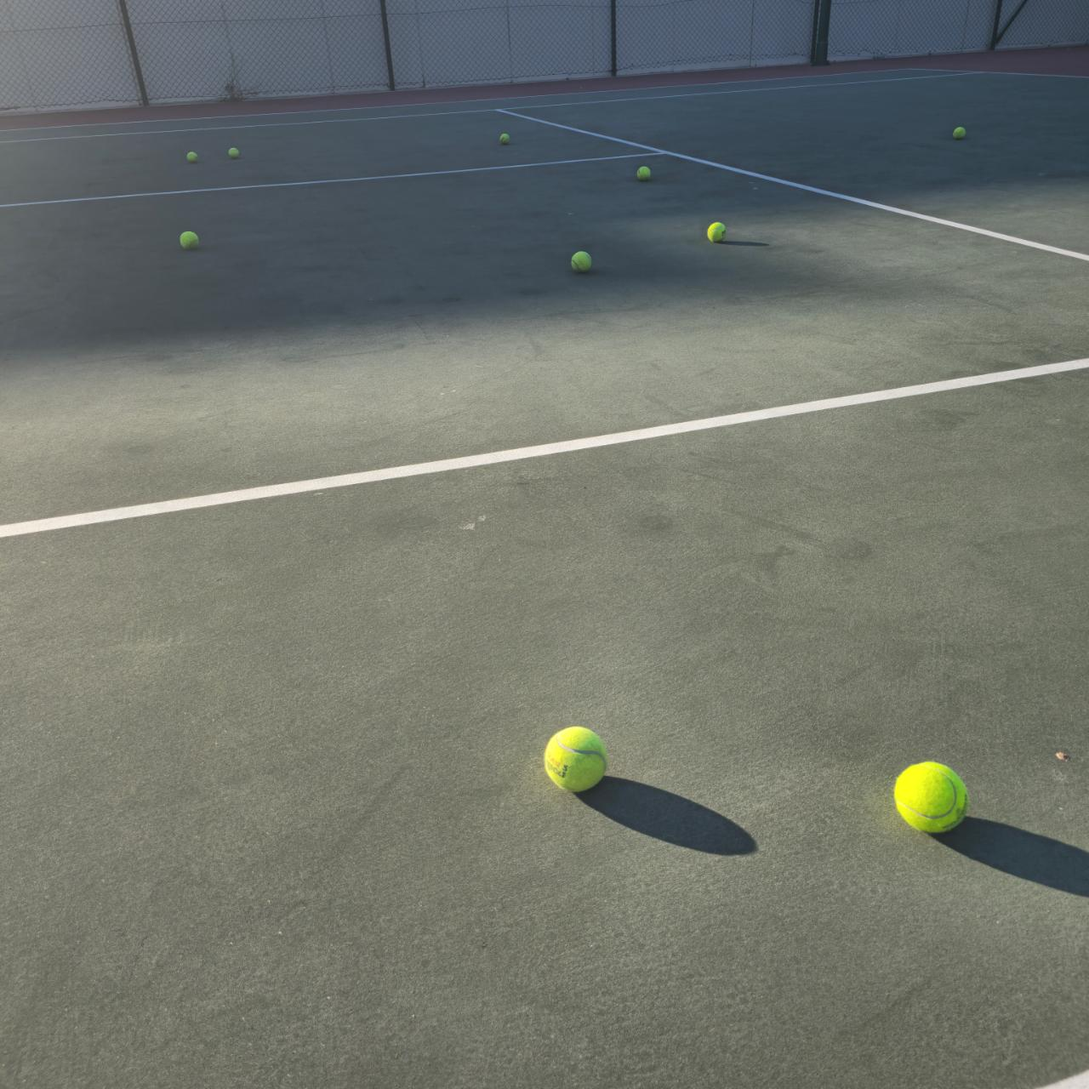tennis-ball: (893, 757, 971, 834), (543, 723, 610, 793), (571, 251, 592, 271), (180, 228, 201, 248), (707, 222, 727, 242), (637, 165, 652, 180), (952, 127, 966, 140), (228, 147, 240, 158), (187, 152, 198, 163), (500, 133, 510, 145)
